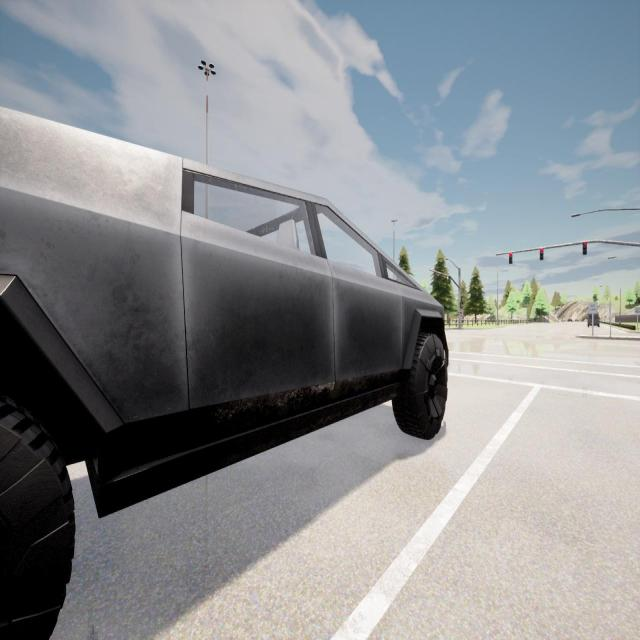Traffic_Signs: (588, 302, 598, 314), (634, 307, 640, 314), (458, 310, 463, 316)
Vehicle: (0, 108, 448, 637), (587, 314, 600, 327), (568, 318, 574, 322)
traffic_light: (583, 241, 587, 255), (540, 248, 544, 260), (509, 253, 513, 264), (441, 274, 444, 281), (448, 277, 451, 284), (435, 272, 437, 281)
